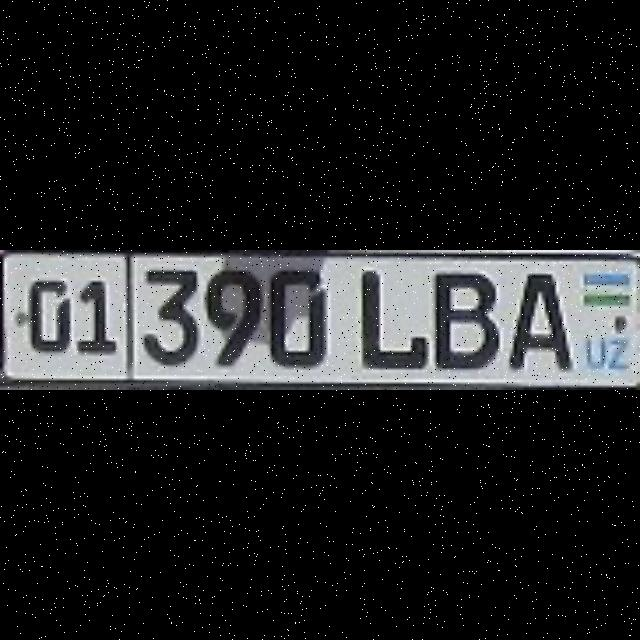0: (264, 264, 320, 362), (21, 275, 63, 345)
1: (70, 275, 110, 349)
3: (137, 264, 193, 362)
9: (197, 264, 257, 362)
A: (504, 268, 566, 366)
B: (428, 268, 496, 366)
L: (356, 264, 422, 366)
